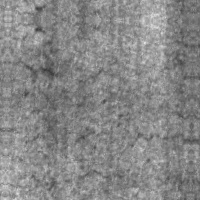crazing: (9, 50, 61, 144), (73, 128, 190, 167)
